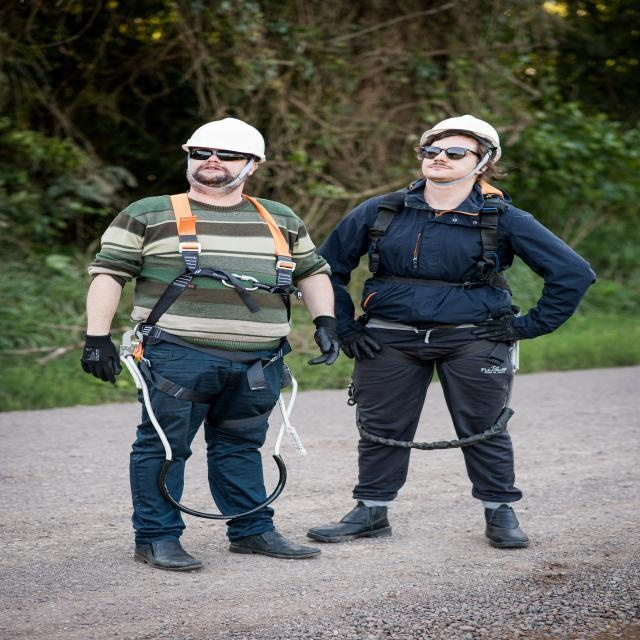Arnes_seguridad: (120, 187, 307, 423), (345, 186, 529, 373)
